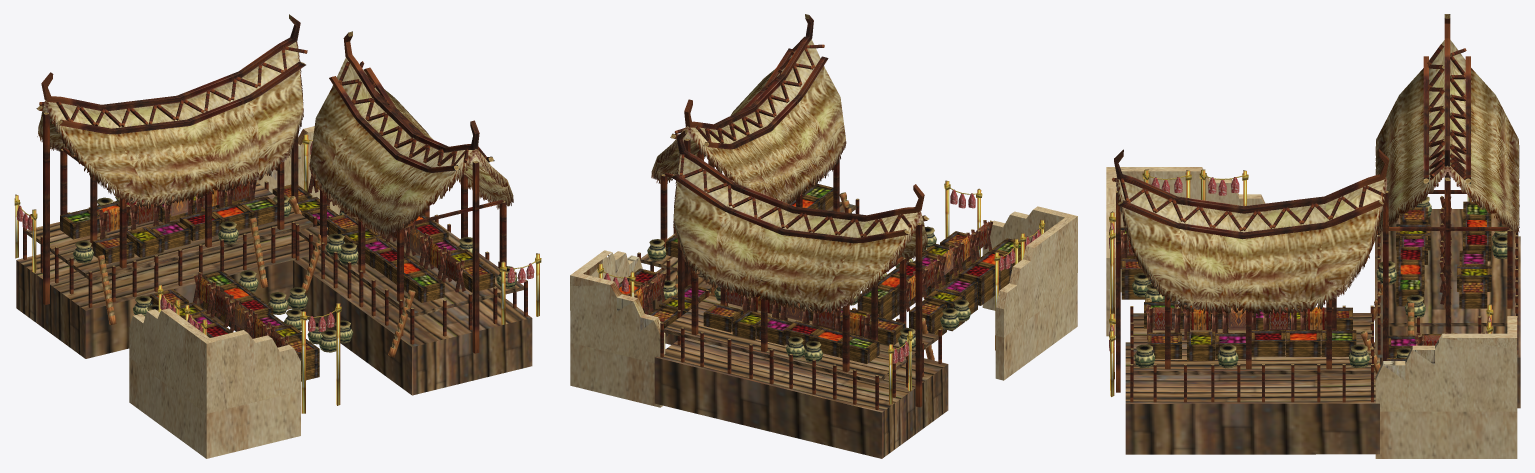
The model's file is market.dae.
3 renders of one model, left to right at view 1: azimuth 30°, elevation 25°; view 2: azimuth 150°, elevation 25°; view 3: azimuth 270°, elevation 25°, orthographic. The views are drawn at different scales.
Visible parts, largest first — view 1: market; view 2: market; view 3: market.
Part boxes in pixels (box(x1,y1,x2,y2)): market: box(14, 14, 541, 458); market: box(570, 14, 1077, 458); market: box(1106, 14, 1520, 458).
Size of the model in its own units: 25.37 by 25.6 by 18.95.
